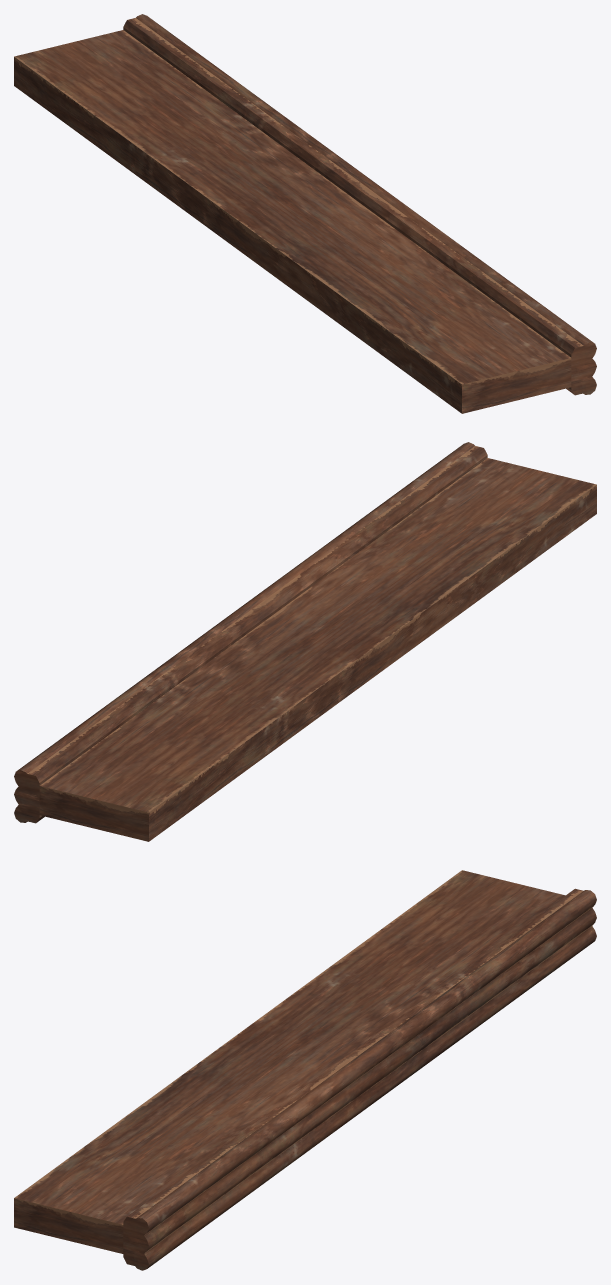
The model's file is Kit_WoodFlatThickPlank.fbx.
The picture shows the model from 3 angles, top to bottom: view 1: azimuth 30°, elevation 25°; view 2: azimuth 150°, elevation 25°; view 3: azimuth 330°, elevation 25°; orthographic projection.
Visible parts, largest first — view 1: Kit_WoodFlatThickPlank; view 2: Kit_WoodFlatThickPlank; view 3: Kit_WoodFlatThickPlank.
Part boxes in pixels (left/top/right/bottom): Kit_WoodFlatThickPlank: left=14, top=14, right=596, bottom=413; Kit_WoodFlatThickPlank: left=14, top=442, right=596, bottom=841; Kit_WoodFlatThickPlank: left=14, top=870, right=596, bottom=1270.
Size of the model in its own units: 27.37 by 10.19 by 157.
